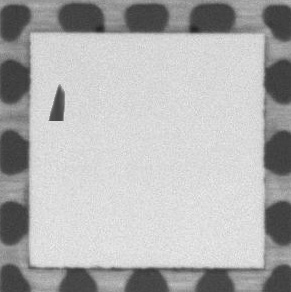DIE_INK: (46, 81, 67, 122)
